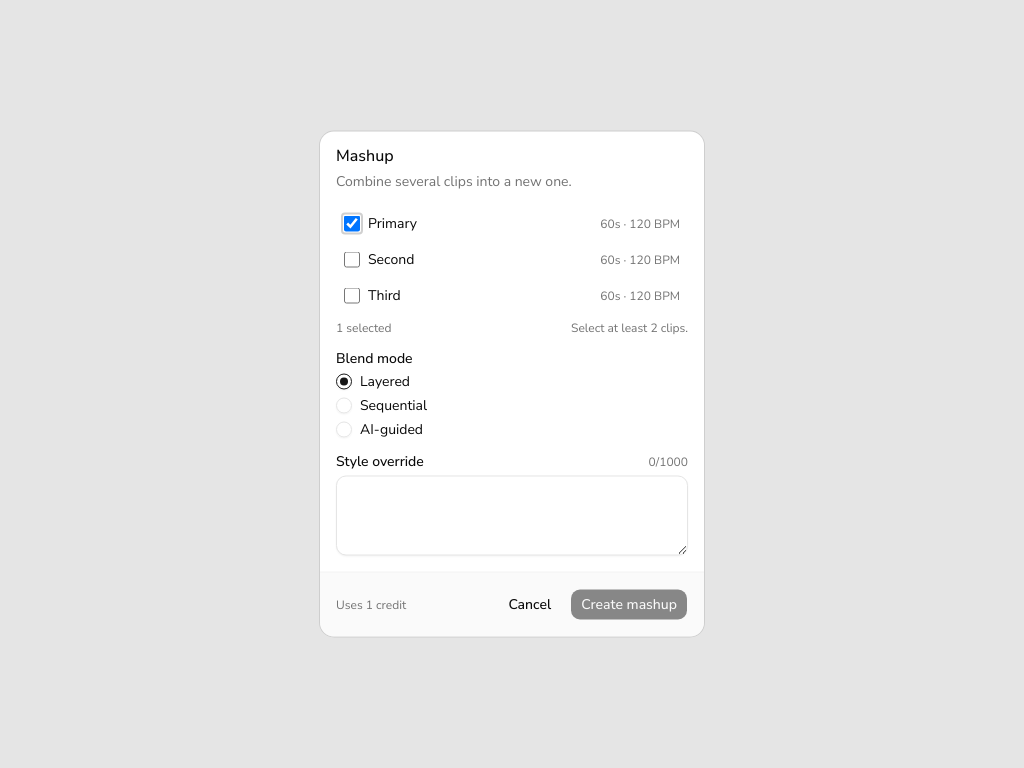
Test: MashupModal › submits the mashup payload and reaches success
Click the checkbox labelled "Second 60s · 120 BPM" at (352, 260), box [344,252,360,268]
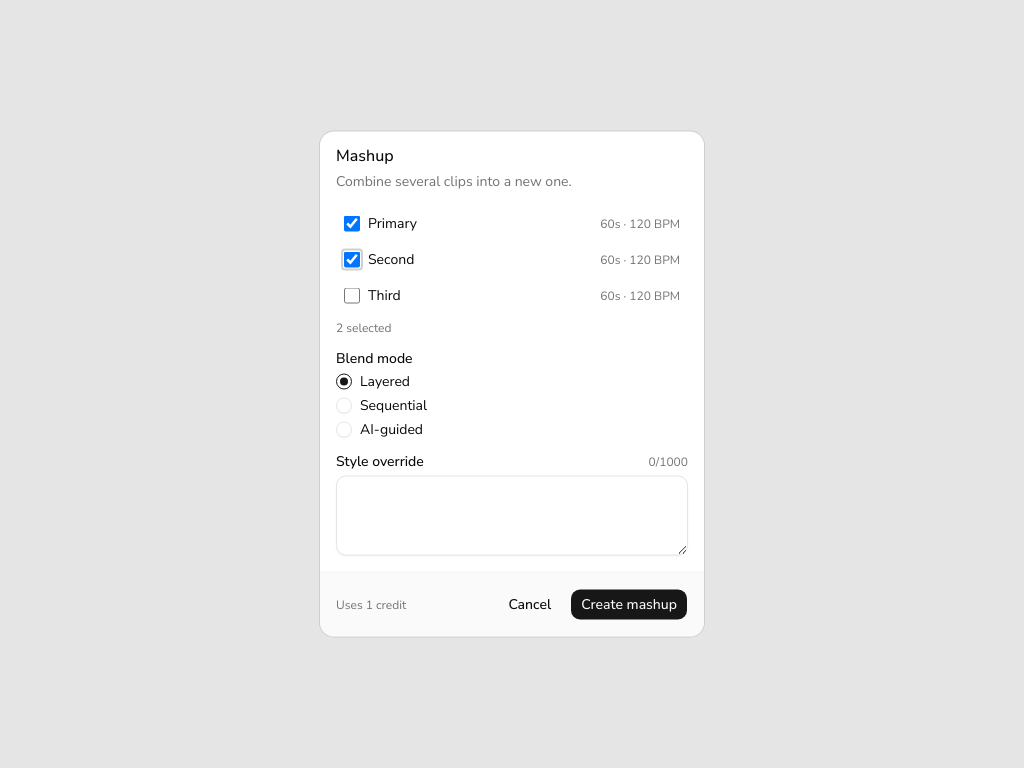
Click the button "Create mashup" at (629, 604), box [570,588,688,620]
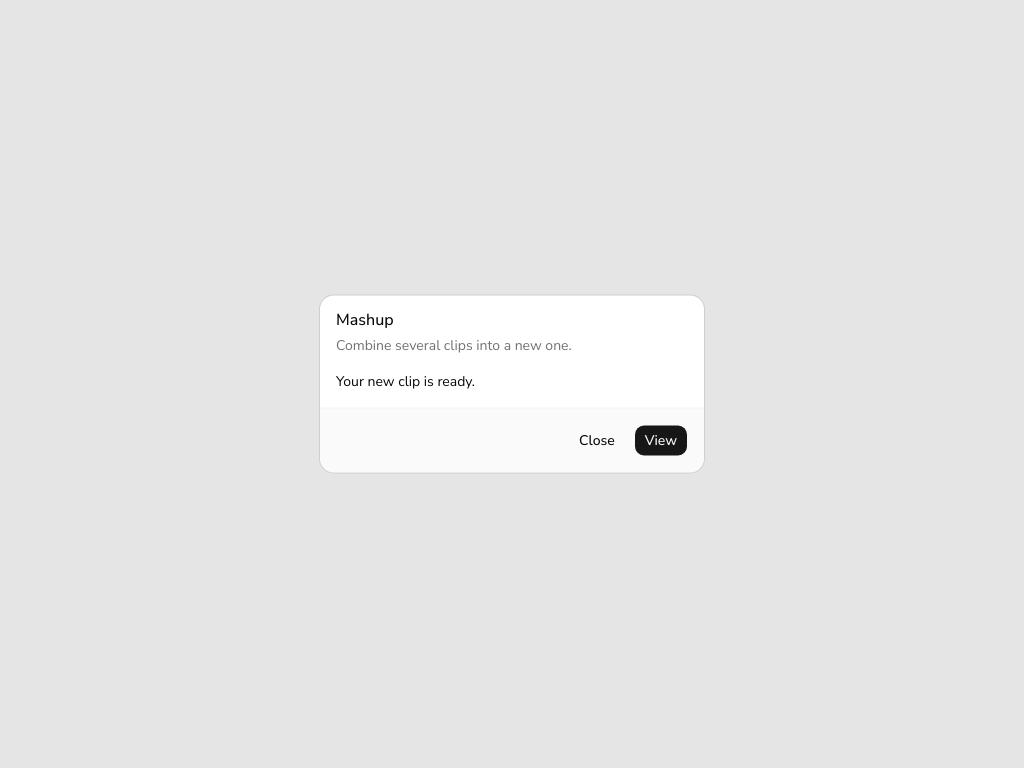
Now the text "Your new clip is ready." is shown, box [336,372,475,390]
